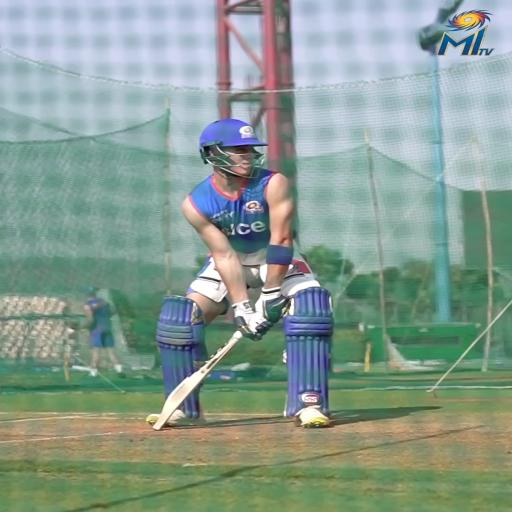Cricket bat: (153, 331, 243, 429)
